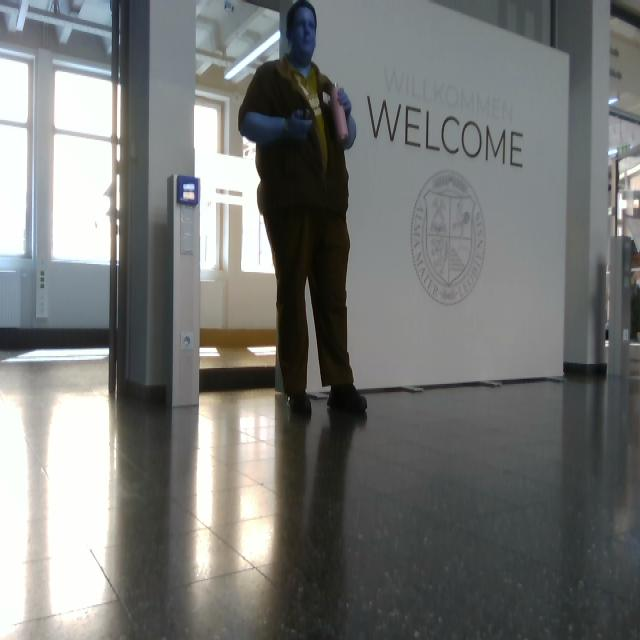light bulb: (225, 30, 280, 80), (331, 86, 349, 142)
tiled floor: (1, 362, 640, 640)
